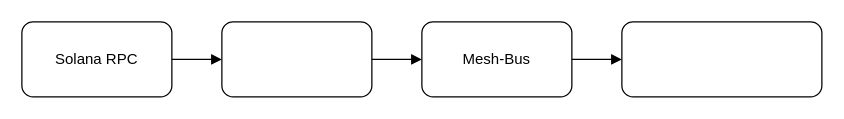
Image size: 844x119. Some labels were removed from this diagram. The centre of each missing label's shape, as x and y in pixels:
Adapter: point (296, 59)
TaskGraph / Agents: point (721, 59)
